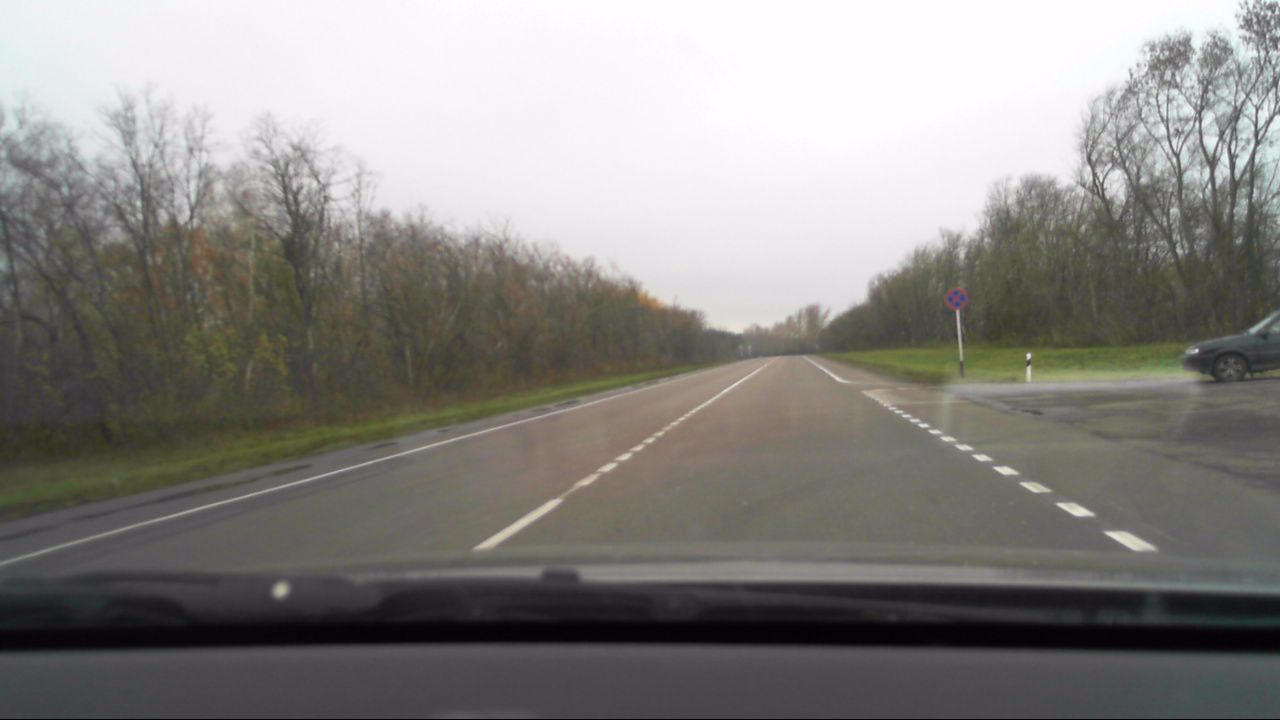No Parking: (943, 289, 966, 308)
